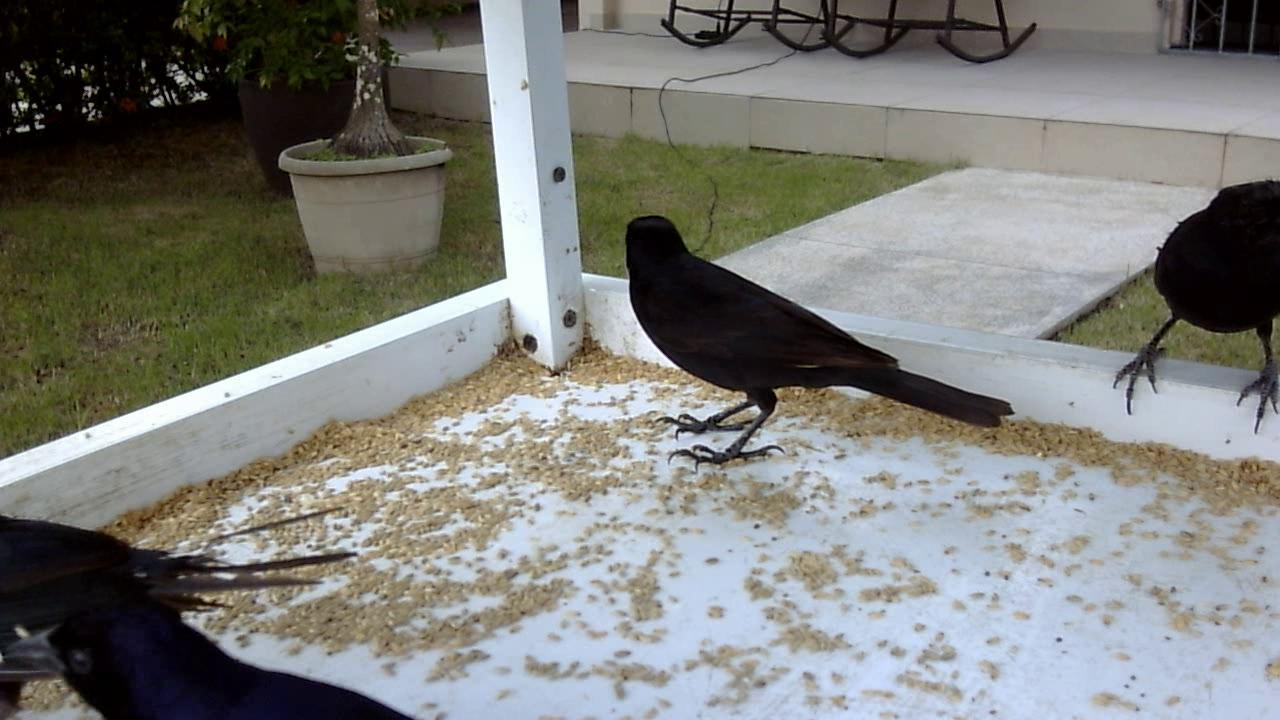chupim: (610, 198, 1015, 474), (4, 475, 387, 644), (22, 586, 416, 716), (1101, 178, 1280, 430)
